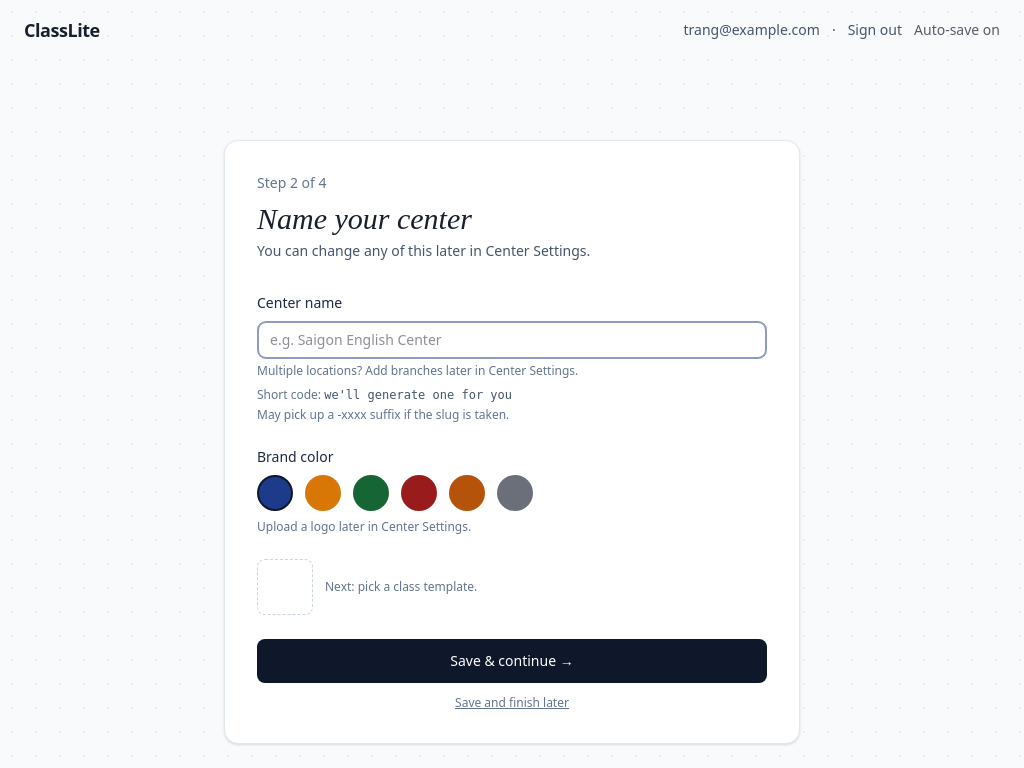
Test: CenterSetupPage — AC7 POST /api/centers error branches › 422 VALIDATION_ERROR field details map to RHF setError
Type "Bad Name" into the field labelled "Center name" at [512, 340], box [257,321,767,359]
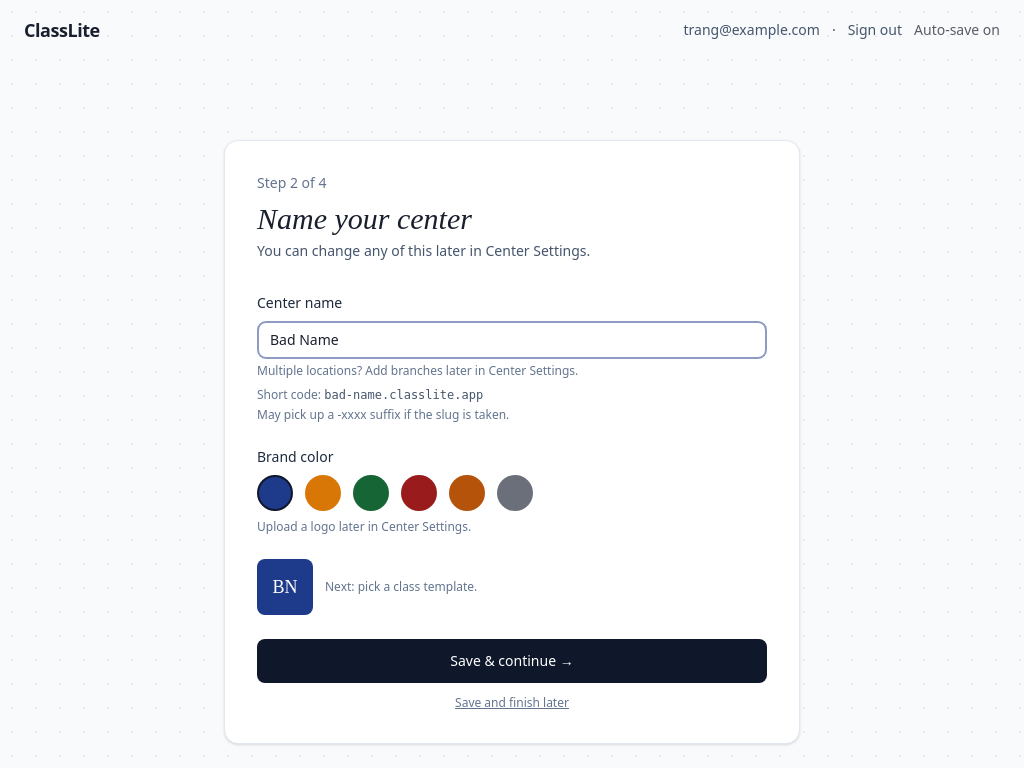
Click the button "Save & continue →" at [512, 661], box [257,639,767,683]
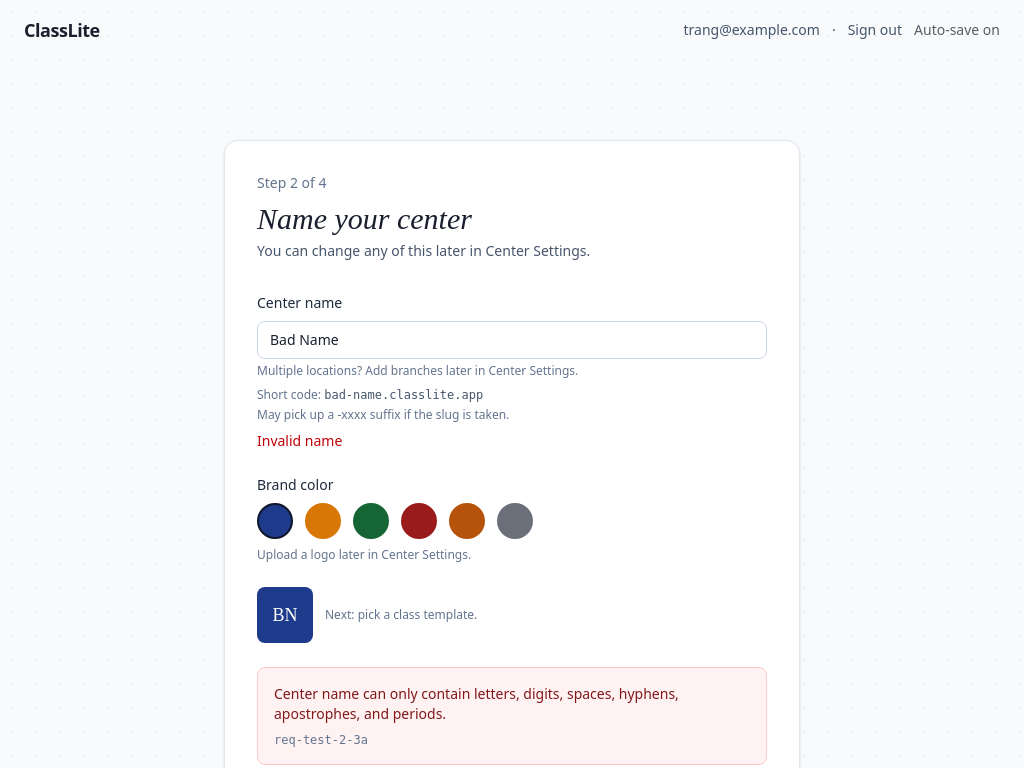
Check: the text "Invalid name" is shown, box [257,431,342,450]
